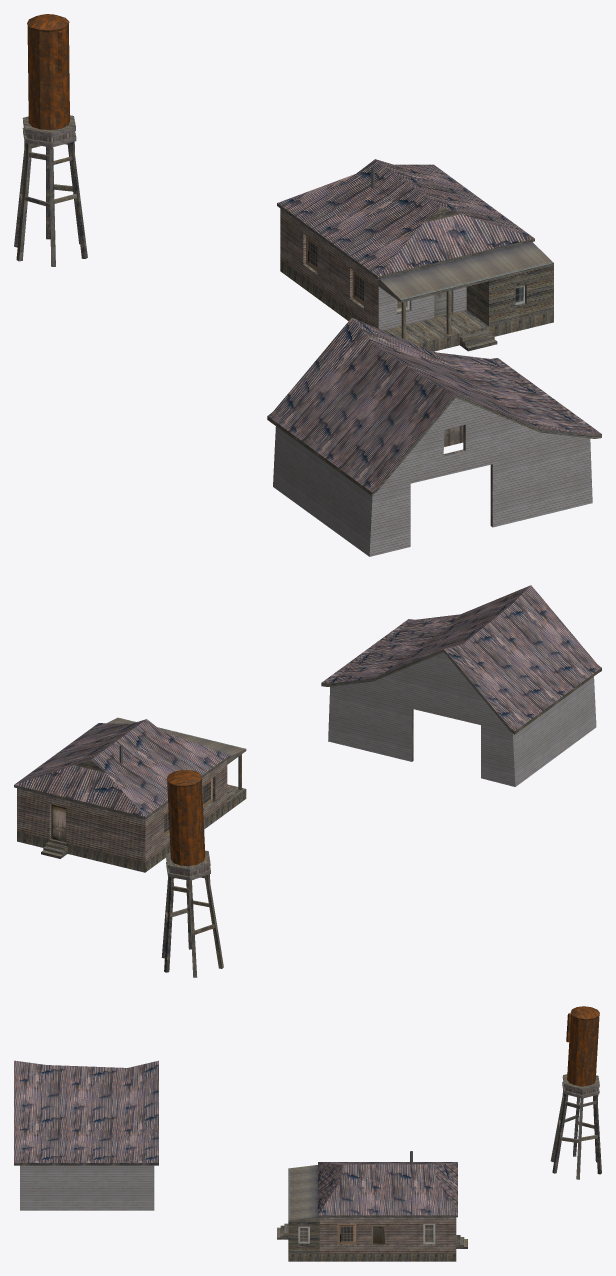
File: des_farmhouse1_.obj
3 renders of one model, top to bottom at view 1: azimuth 30°, elevation 25°; view 2: azimuth 150°, elevation 25°; view 3: azimuth 270°, elevation 25°, orthographic. The views are drawn at different scales.
Parts seen in each view (by area): view 1: des_farmhouse1_; view 2: des_farmhouse1_; view 3: des_farmhouse1_.
Part boxes in pixels (x1,y1,x2,y2): des_farmhouse1_: (14,14,601,556); des_farmhouse1_: (14,585,601,977); des_farmhouse1_: (14,1006,601,1261).
Bounding box in the file's own units: 20.52 × 11.87 × 39.35.
Materials: 18 (18 with a texture image).
